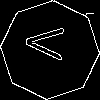V: (25, 25, 73, 62)
